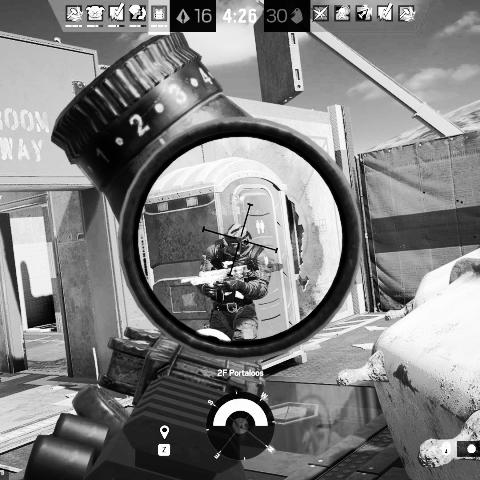Character: (184, 221, 274, 372)
Friend_label: (210, 194, 258, 215)
Head: (224, 223, 250, 254)
